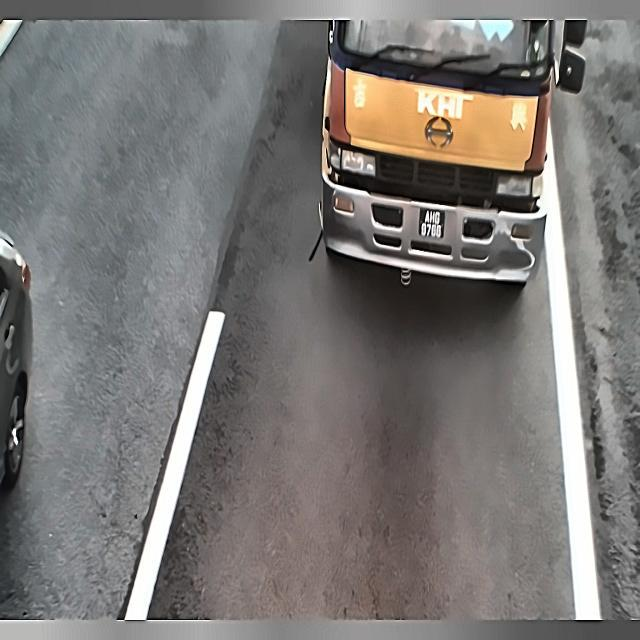car: (411, 196, 451, 252)
